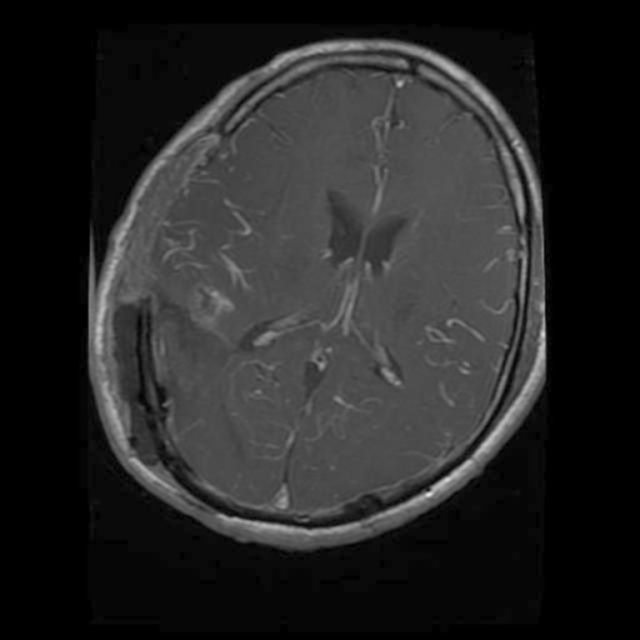pituitary tumor: (130, 135, 215, 314)
